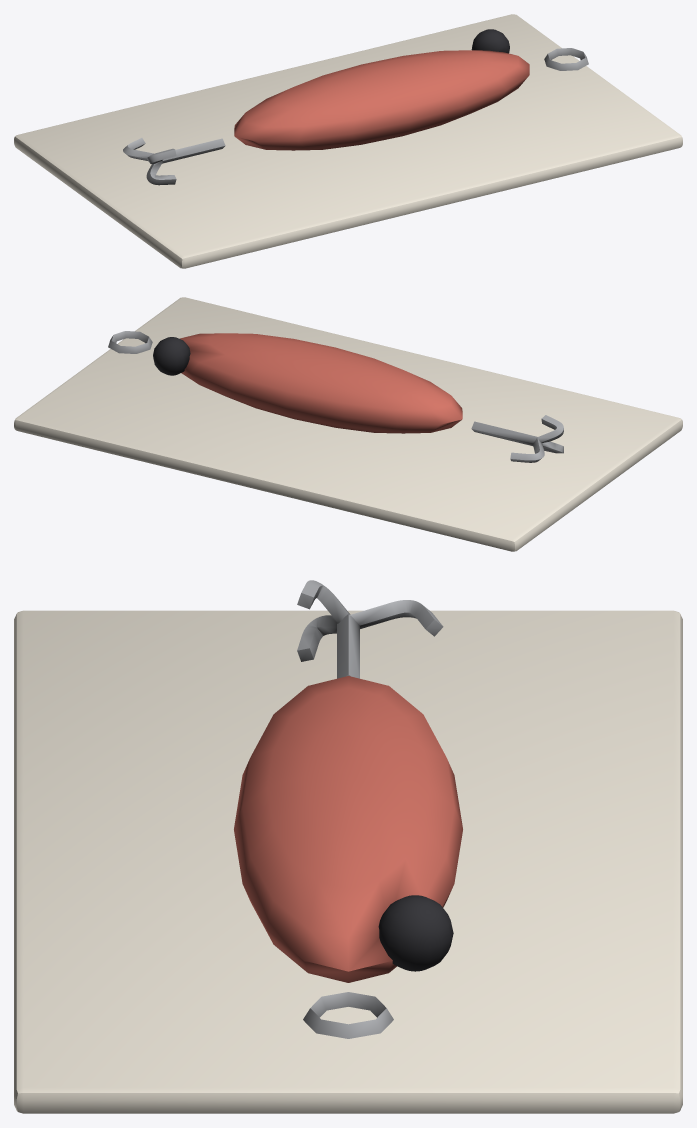
File: bait_lure.glb
The picture shows the model from 3 angles, top to bottom: view 1: azimuth 30°, elevation 25°; view 2: azimuth 150°, elevation 25°; view 3: azimuth 270°, elevation 25°; orthographic projection. The views are drawn at different scales.
Parts seen in each view (by area): view 1: PART; view 2: PART; view 3: PART.
Part boxes in pixels (x1,y1,x2,y2): PART: (14,14,682,268); PART: (14,297,682,551); PART: (14,580,682,1113).
Bounding box in the file's own units: 0.12 × 0.0157 × 0.07.
